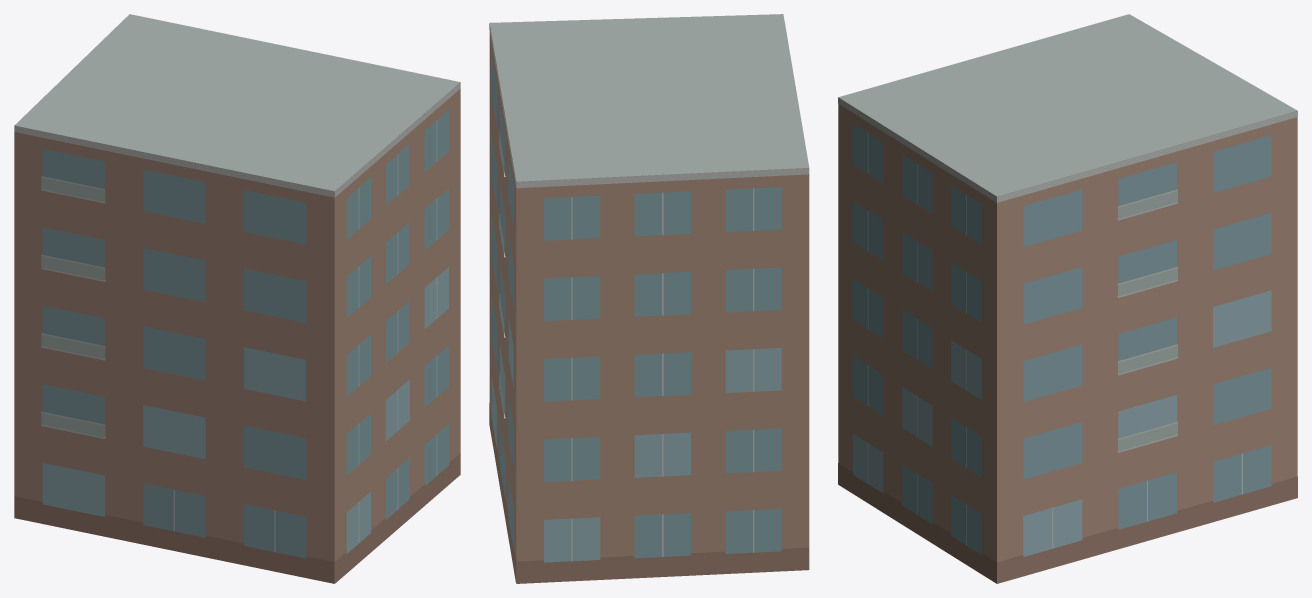
File: survey-upis-32927274.glb
3 renders of one model, left to right at view 1: azimuth 30°, elevation 25°; view 2: azimuth 150°, elevation 25°; view 3: azimuth 270°, elevation 25°, orthographic. The views are drawn at different scales.
Parts seen in each view (by area): view 1: survey-upis-32927274.tmp; view 2: survey-upis-32927274.tmp; view 3: survey-upis-32927274.tmp.
Part boxes in pixels (box(x1,y1,x2,y2)): survey-upis-32927274.tmp: box(14, 14, 460, 583); survey-upis-32927274.tmp: box(489, 14, 809, 583); survey-upis-32927274.tmp: box(838, 14, 1297, 583).
Bounding box in the file's own units: 15.07 × 14.9 × 16.03.
